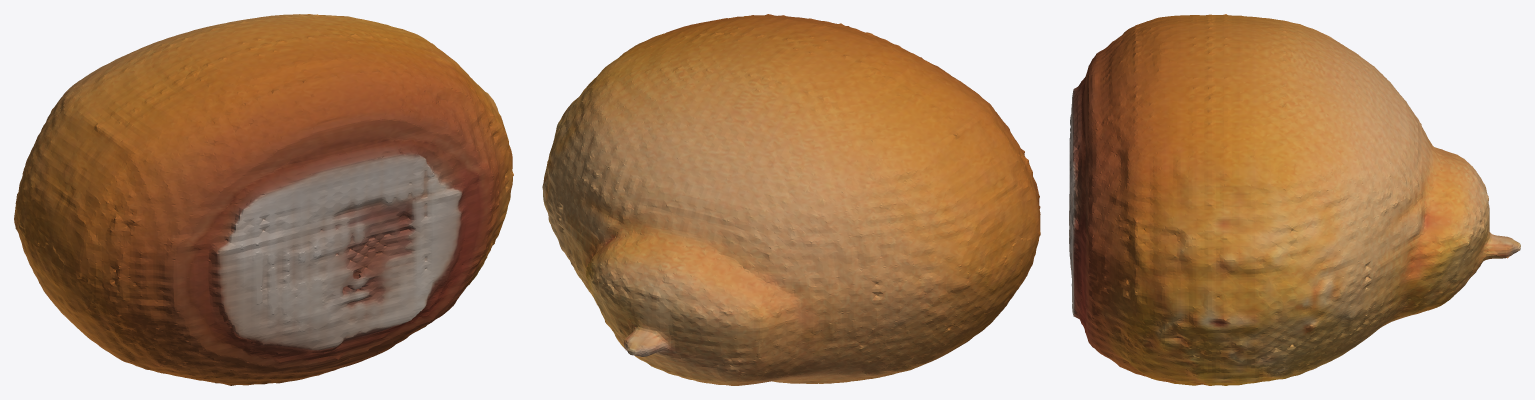
The model's file is obj1_scaled_obb.glb.
The picture shows the model from 3 angles, left to right: view 1: azimuth 30°, elevation 25°; view 2: azimuth 150°, elevation 25°; view 3: azimuth 270°, elevation 25°; orthographic projection. The views are drawn at different scales.
Parts seen in each view (by area): view 1: world; view 2: world; view 3: world.
Boxes of the visible parts, bbox=[...] form: world: bbox=[14, 14, 513, 385]; world: bbox=[542, 14, 1040, 385]; world: bbox=[1069, 14, 1520, 385].
Size of the model in its own units: 0.0675 by 0.0449 by 0.0602.
